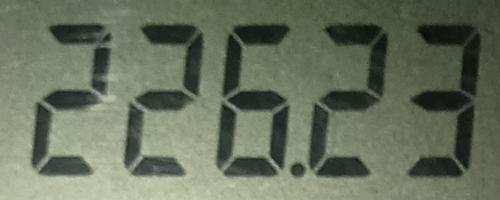.: (289, 161, 305, 178)
